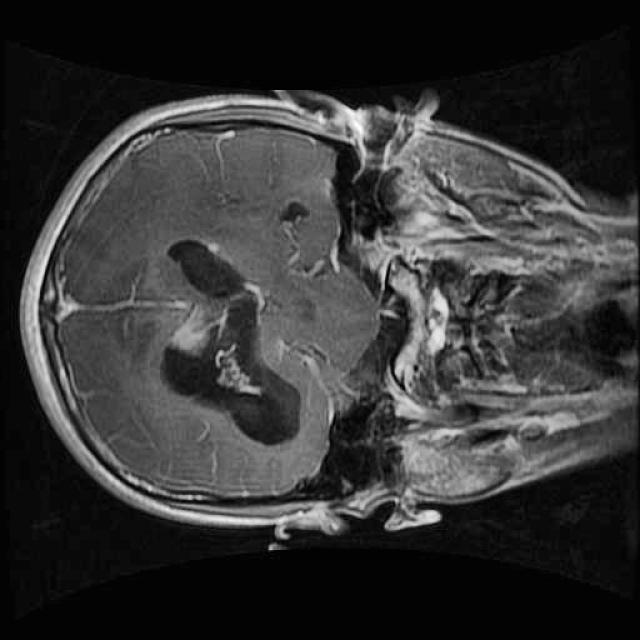Tumor: (136, 220, 329, 468)
